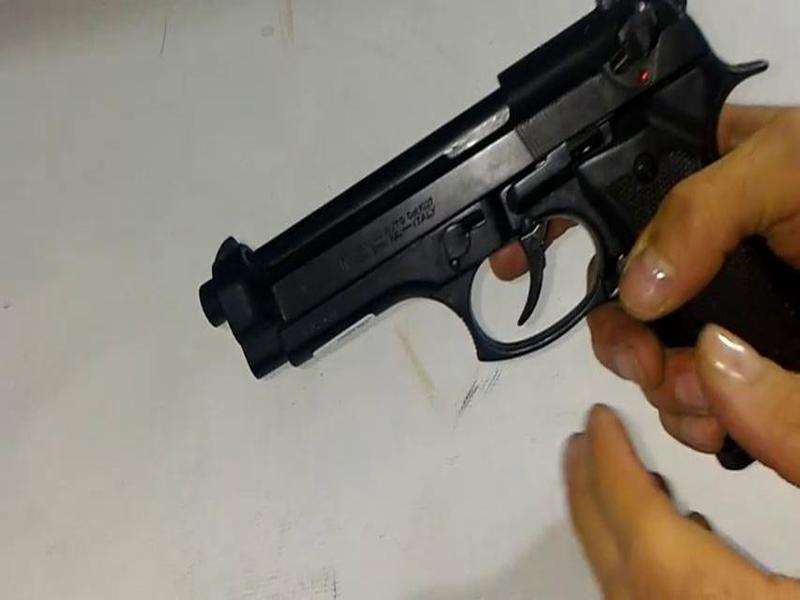Pistola: (166, 12, 800, 438)
